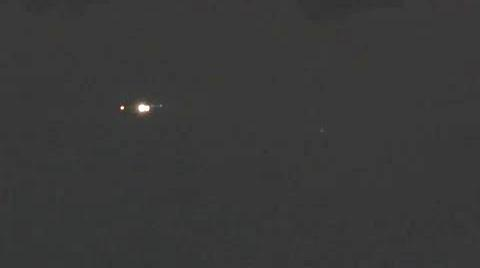Plane: (98, 94, 182, 124)
